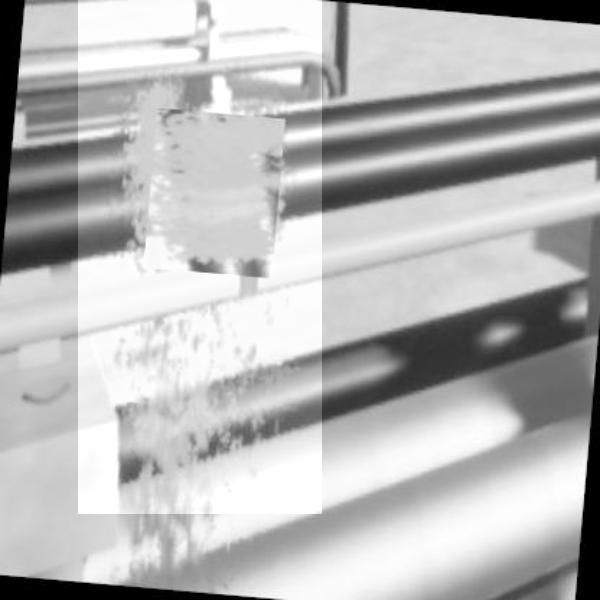gas: (78, 0, 322, 514)
